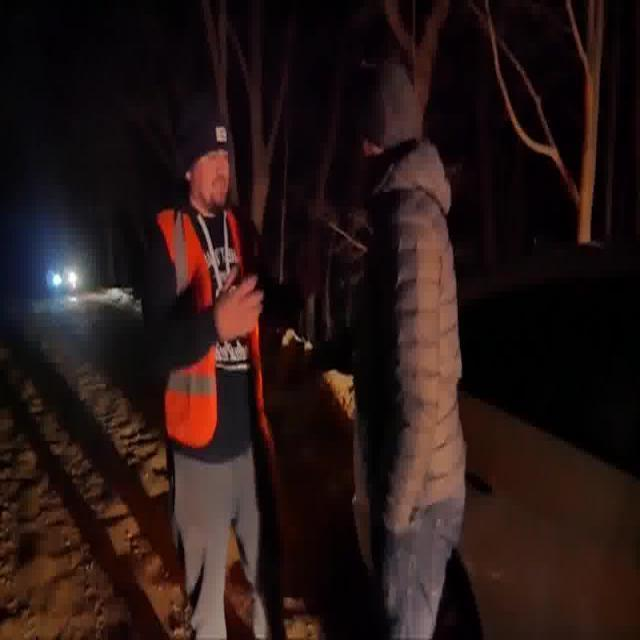safety_vest: (157, 209, 276, 452)
